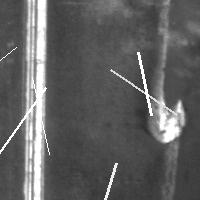scratches: (18, 1, 50, 200), (154, 1, 179, 176), (105, 64, 181, 119), (0, 83, 50, 166), (142, 86, 186, 143), (27, 72, 54, 159), (133, 47, 156, 120), (0, 42, 21, 97), (98, 158, 121, 200)
